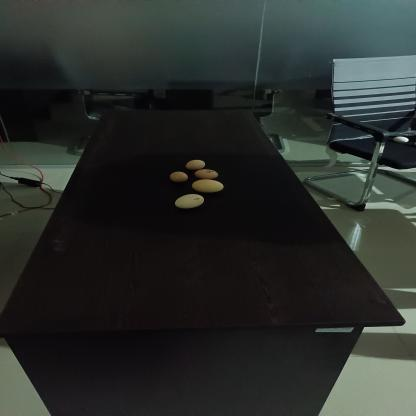egg: (188, 178, 228, 194), (172, 192, 206, 210), (193, 168, 221, 180), (185, 158, 207, 171), (166, 170, 188, 182)
